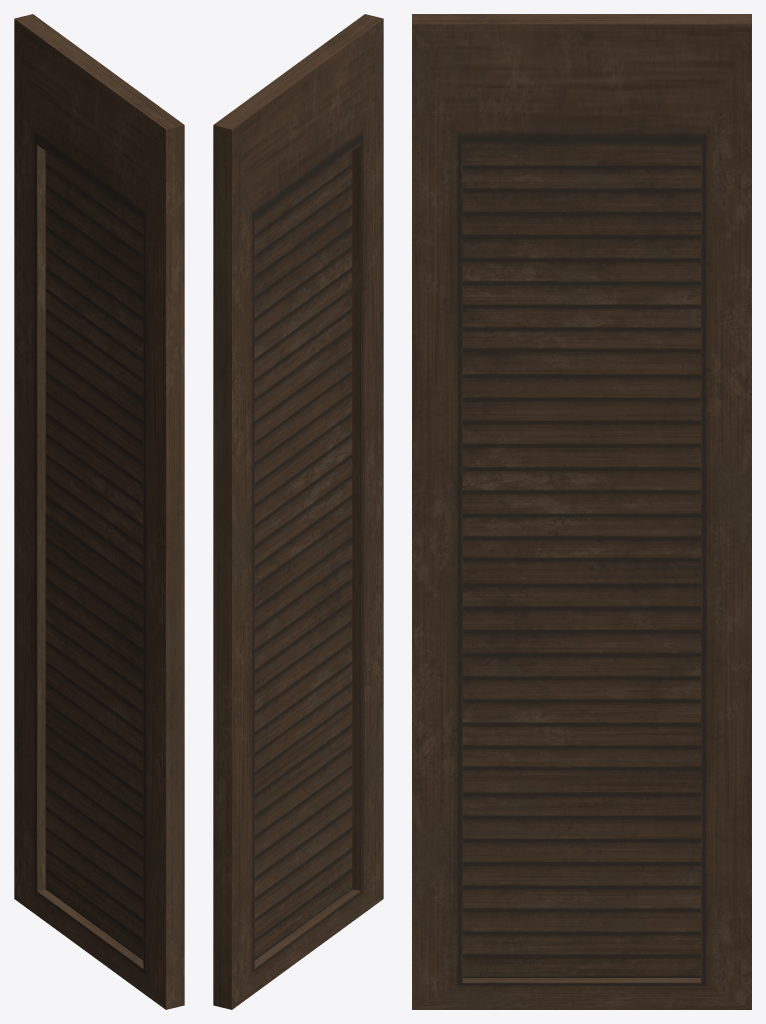
File: TowerOverhang_Shutter01.fbx
3 views of the same model, side by side, from view 1: azimuth 30°, elevation 25°; view 2: azimuth 150°, elevation 25°; view 3: azimuth 270°, elevation 25° (orthographic). The views are drawn at different scales.
Parts seen in each view (by area): view 1: polySurface54; view 2: polySurface54; view 3: polySurface54.
Boxes of the visible parts, bbox=[...] form: polySurface54: bbox=[14, 14, 184, 1009]; polySurface54: bbox=[213, 14, 383, 1009]; polySurface54: bbox=[412, 14, 751, 1009].
Size of the model in its own units: 3.03 by 135 by 42.28.
